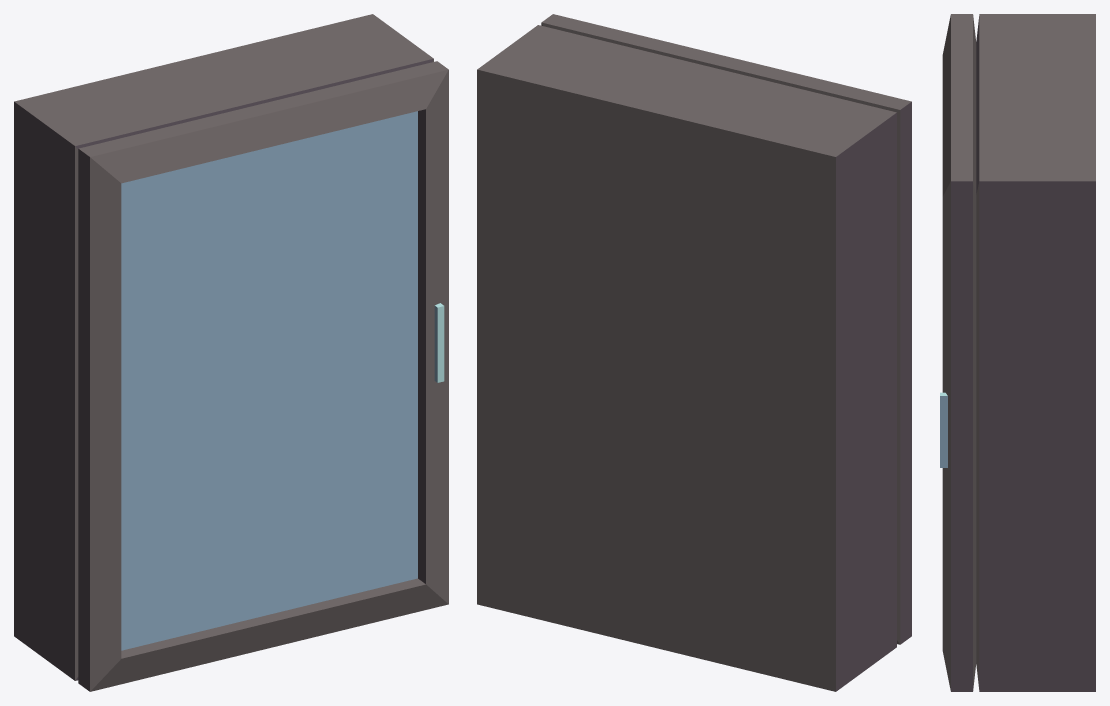
File: Mirror Cabinet.fbx
The picture shows the model from 3 angles, left to right: view 1: azimuth 30°, elevation 25°; view 2: azimuth 150°, elevation 25°; view 3: azimuth 270°, elevation 25°; orthographic projection. The views are drawn at different scales.
Visible parts, largest first — view 1: Mirror Cabinet; view 2: Mirror Cabinet; view 3: Mirror Cabinet.
Part boxes in pixels (<box>): Mirror Cabinet: <box>14,14,448,691</box>; Mirror Cabinet: <box>477,14,911,691</box>; Mirror Cabinet: <box>940,14,1095,691</box>.
Bounding box in the file's own units: 116 × 165 × 45.62.
